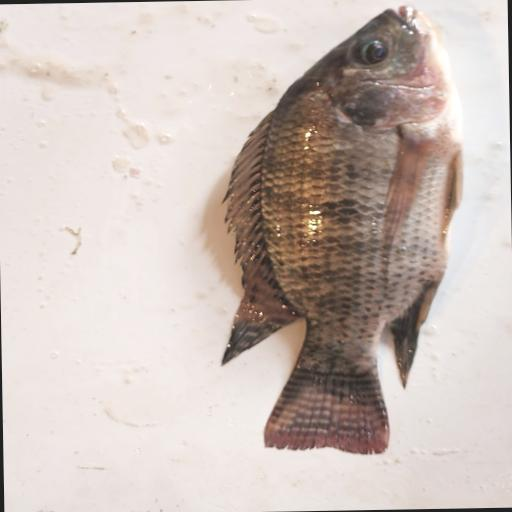Tilapia: (214, 4, 469, 458)
